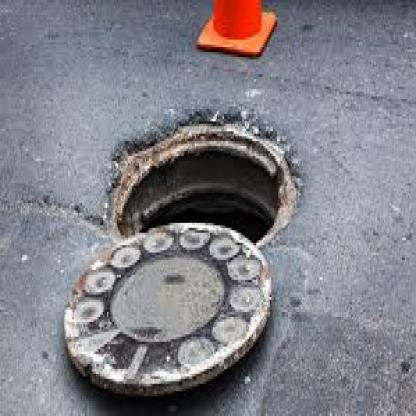open manhole-not overflowing-: (72, 70, 310, 387)
